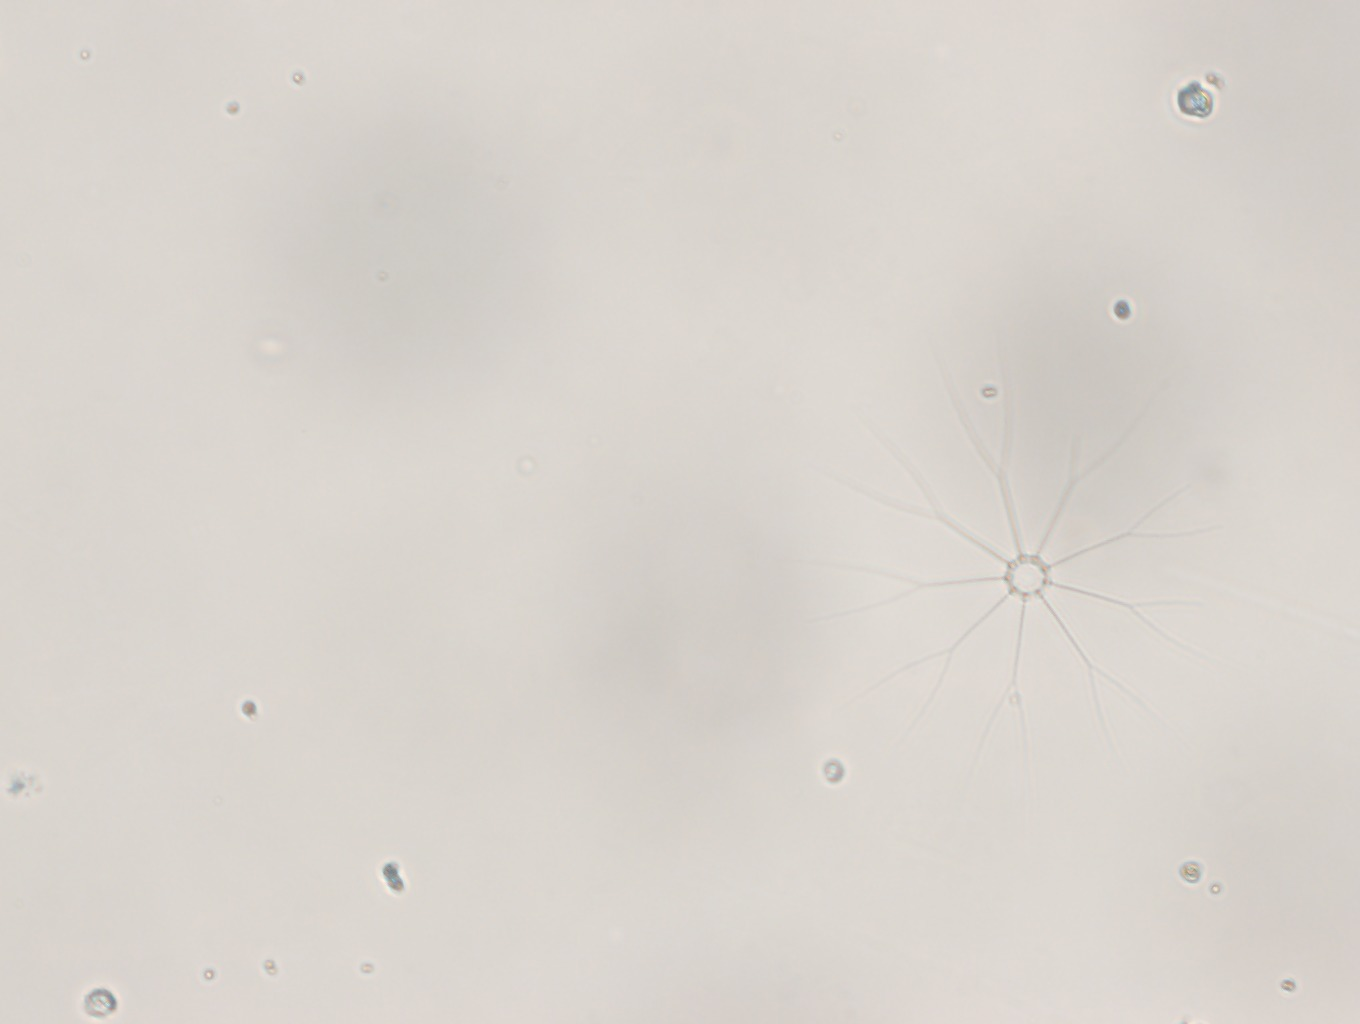bacteriastrum: (814, 396, 1234, 746)
